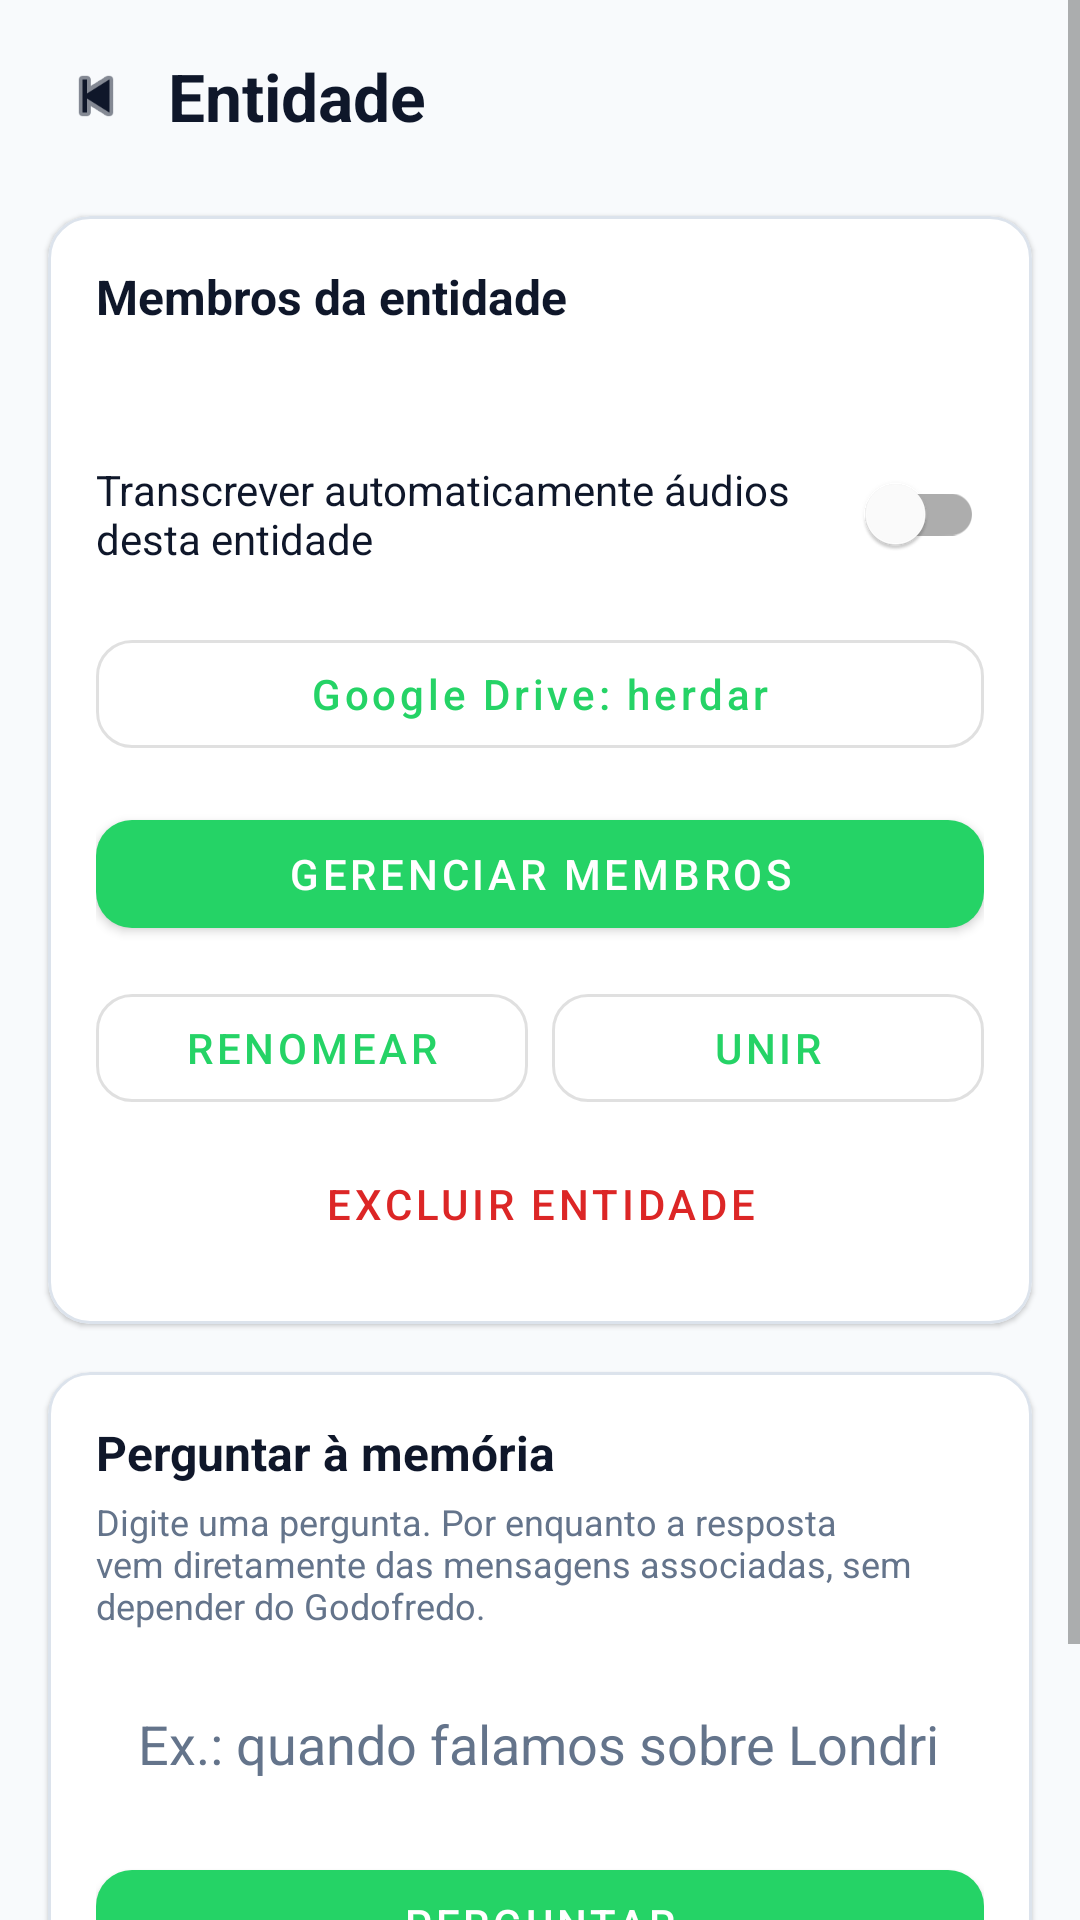

Icon bounding boxes for this 1080 × 1920 phone screenshot, format (x1=x1, y1=y1, x2=x2, y2=y2):
Voltar: (x1=79, y1=76, x2=113, y2=116)
